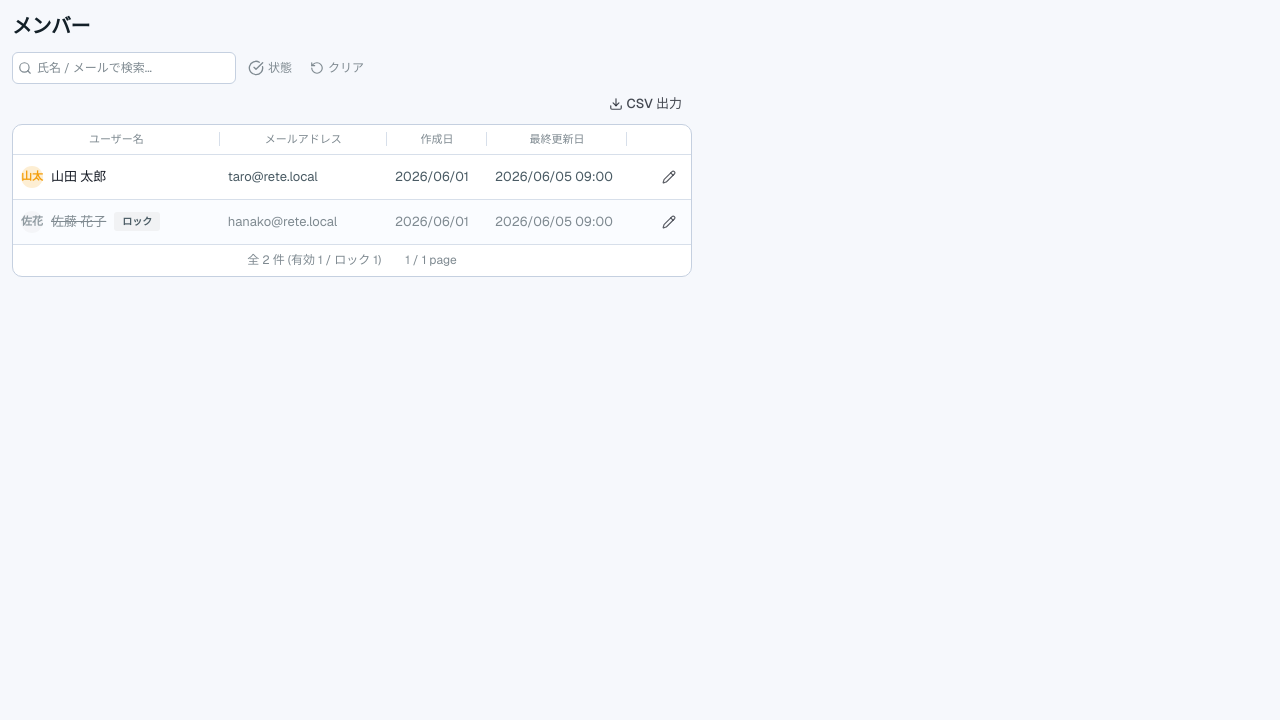
Scenario: MembersScreen › email を大文字で変更しても backend 正規化で照合が一致し、成功扱いする（set-0178 HIGH 修正）
Click the button named "山田 太郎 を編集": (669,176) [655,162,683,190]
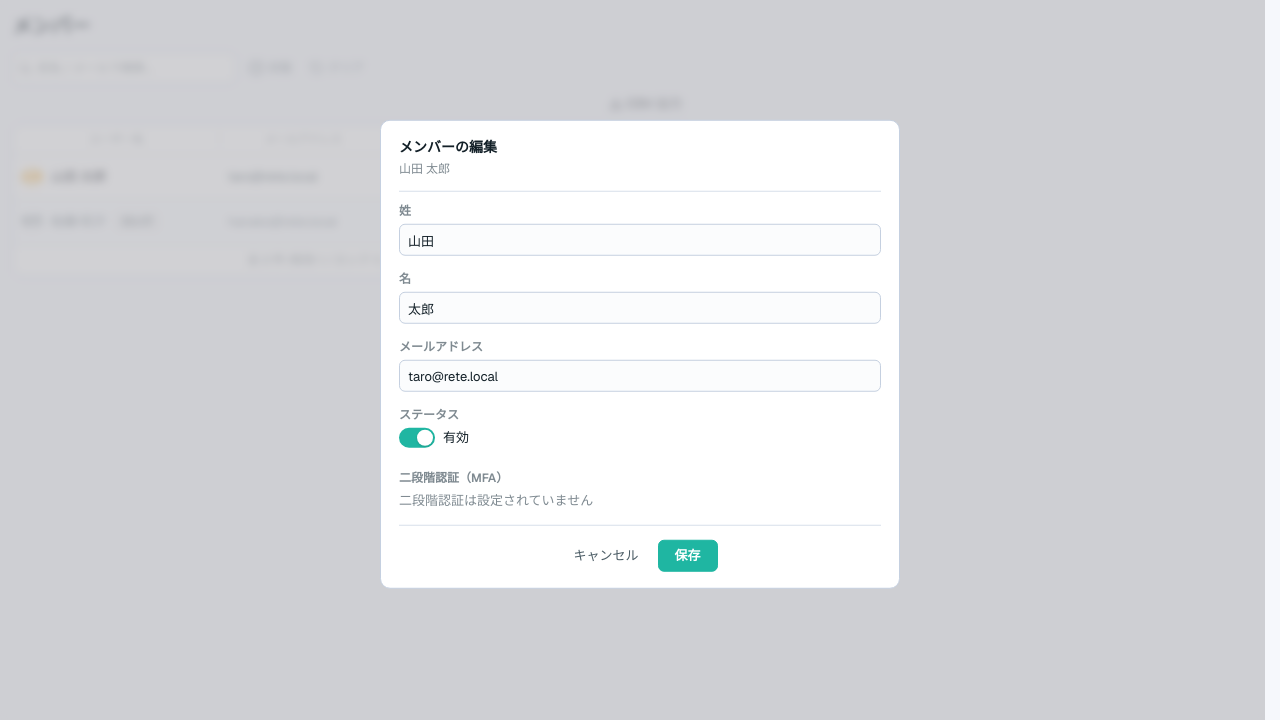
Note: 大文字を含む email を入力（backend は trim + 小文字化して保存する）。
Replace the text in the field with test id "member-editor-email" with "TARO-NEW@RETE.LOCAL": (640,376) [399,360,881,392]
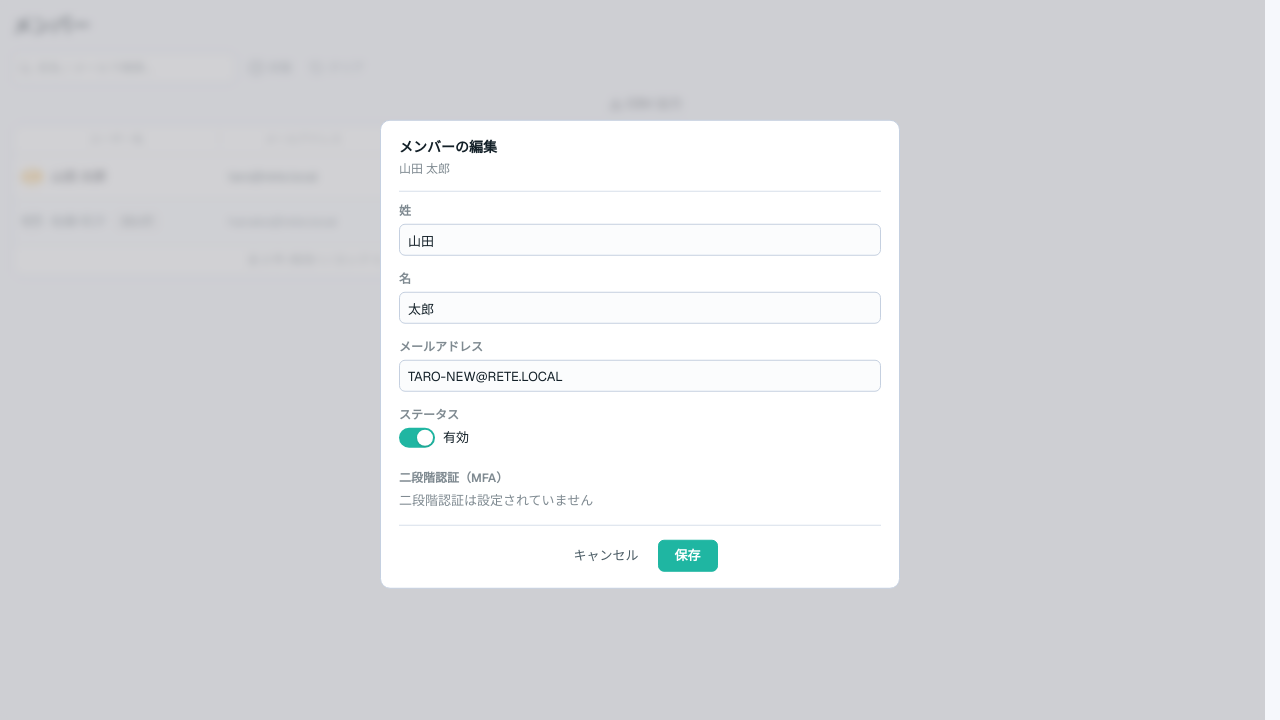
Click the button "保存": (688,555) [658,539,718,571]
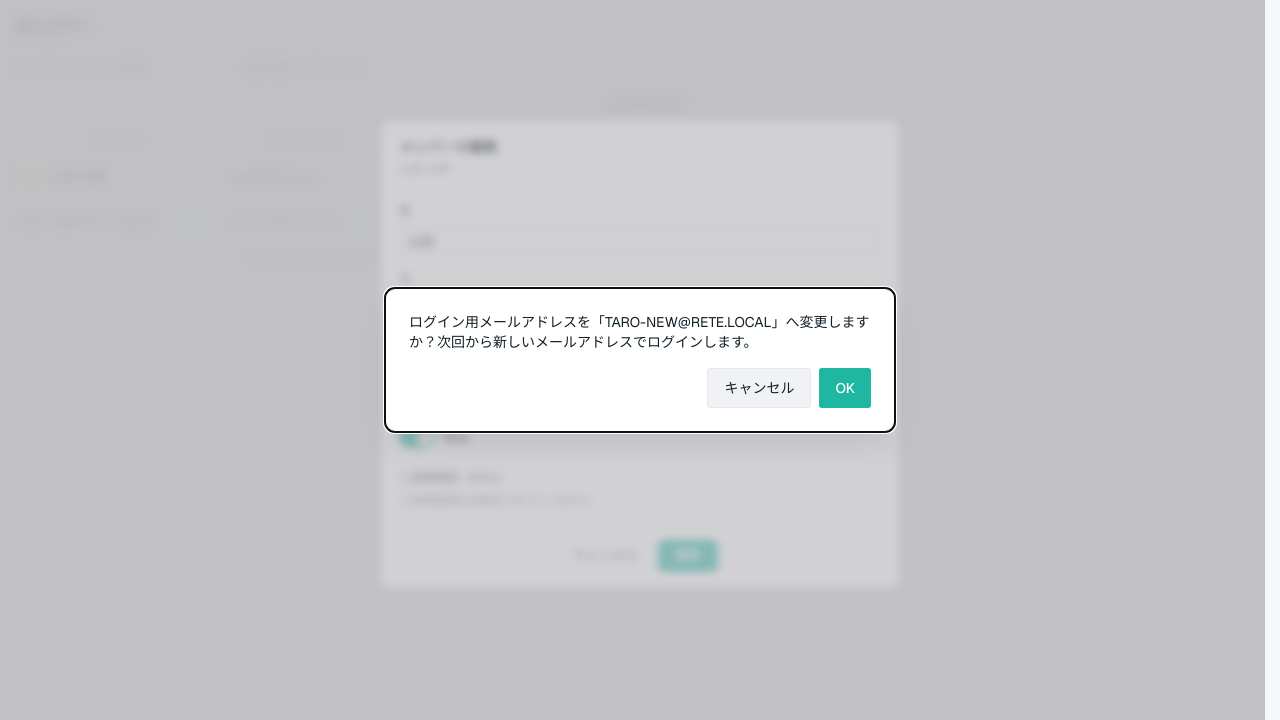
Click the button "OK": (845,388) [820,368,871,408]
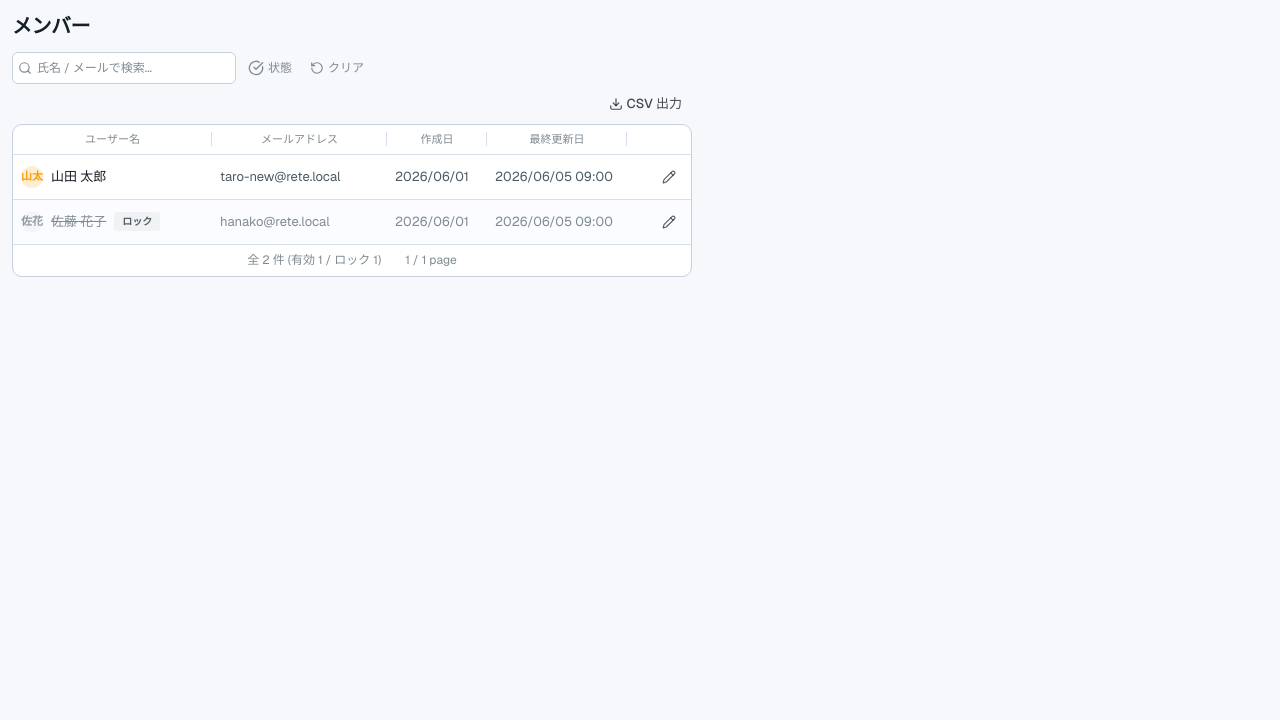
Check: the heading "メンバーの編集" is gone
